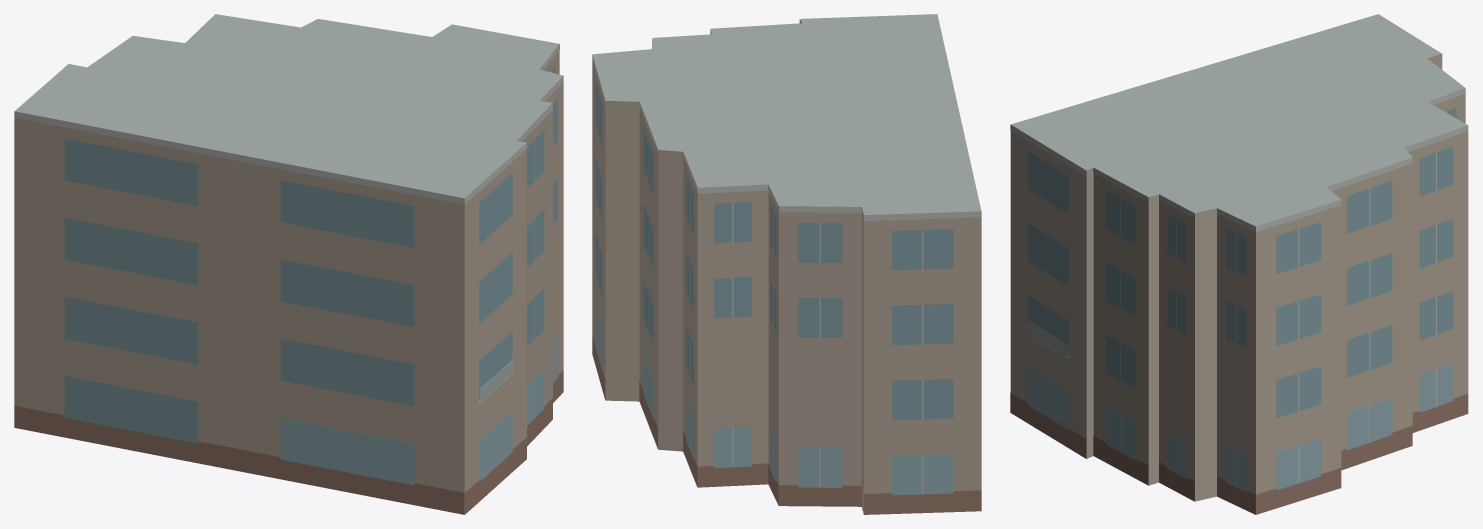
Rendered from survey-upis-32776180.glb.
The picture shows the model from 3 angles, left to right: view 1: azimuth 30°, elevation 25°; view 2: azimuth 150°, elevation 25°; view 3: azimuth 270°, elevation 25°; orthographic projection. The views are drawn at different scales.
Visible parts, largest first — view 1: survey-upis-32776180.tmp; view 2: survey-upis-32776180.tmp; view 3: survey-upis-32776180.tmp.
Part boxes in pixels (<box>): survey-upis-32776180.tmp: <box>14,14,563,514</box>; survey-upis-32776180.tmp: <box>592,14,981,514</box>; survey-upis-32776180.tmp: <box>1010,14,1468,514</box>.
Size of the model in its own units: 19.29 by 12.2 by 17.56.
